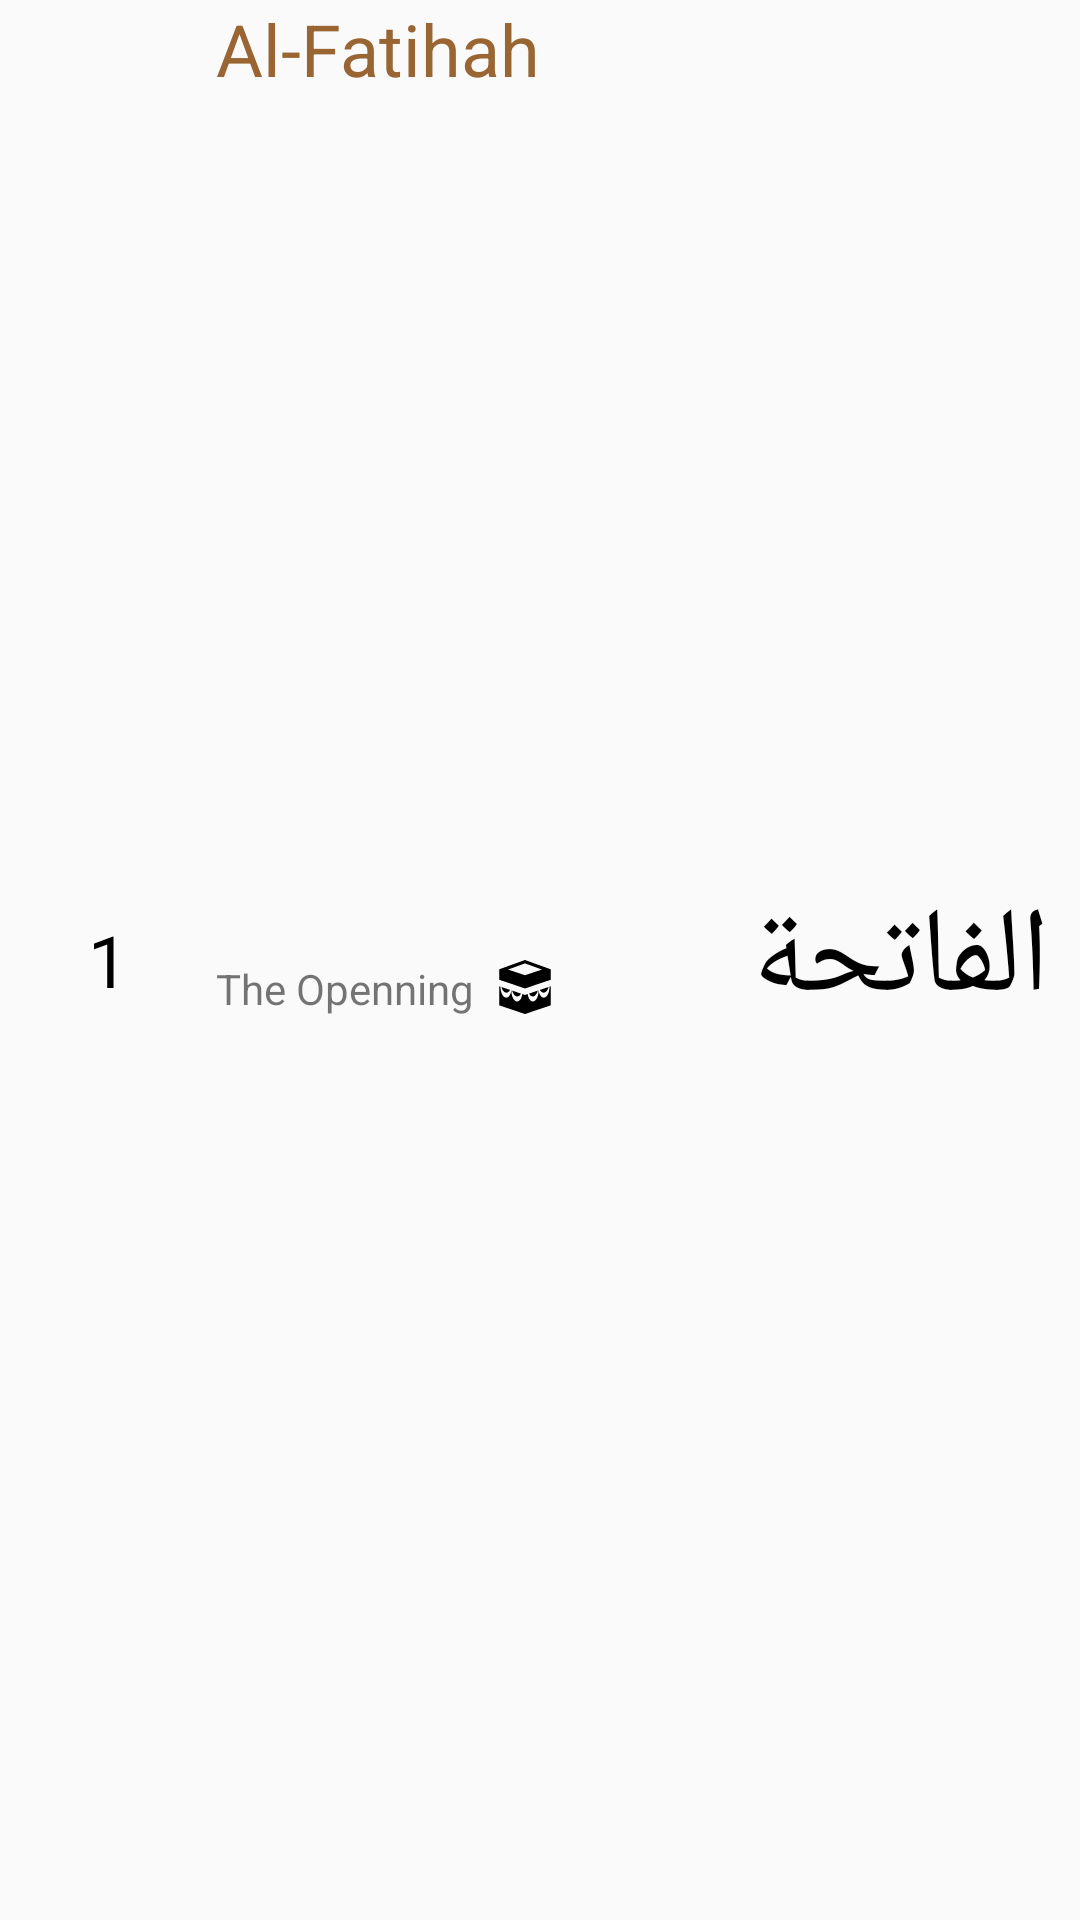

Screen size 1080px×1920px. Icon name, then its center in pixels as (x=x, y=y):
kaaba mecca: (x=525, y=987)
